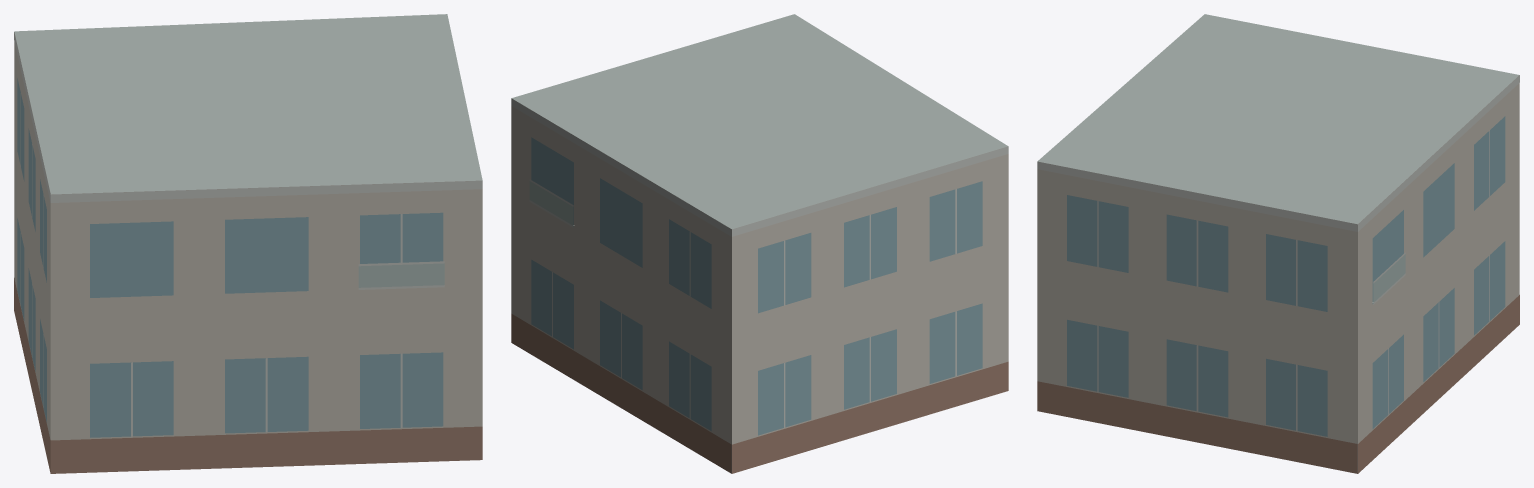
The model's file is survey-upis-32745963.glb.
3 renders of one model, left to right at view 1: azimuth 30°, elevation 25°; view 2: azimuth 150°, elevation 25°; view 3: azimuth 270°, elevation 25°, orthographic. The views are drawn at different scales.
Parts seen in each view (by area): view 1: survey-upis-32745963.tmp; view 2: survey-upis-32745963.tmp; view 3: survey-upis-32745963.tmp.
Boxes of the visible parts, x1=… form: survey-upis-32745963.tmp: x1=14, y1=14, x2=482, y2=473; survey-upis-32745963.tmp: x1=511, y1=14, x2=1008, y2=473; survey-upis-32745963.tmp: x1=1037, y1=14, x2=1519, y2=473.
Size of the model in its own units: 14.28 by 7.9 by 13.85.
